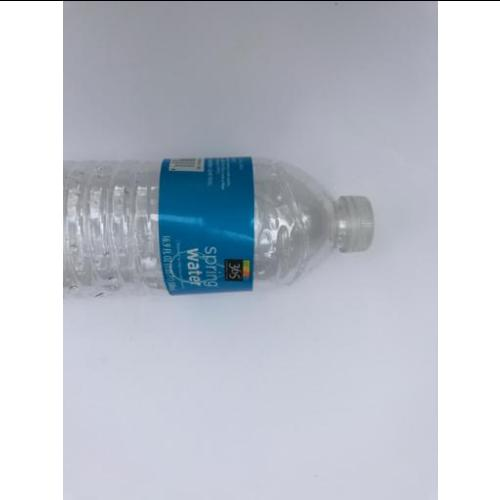plastic: (62, 162, 372, 295)
